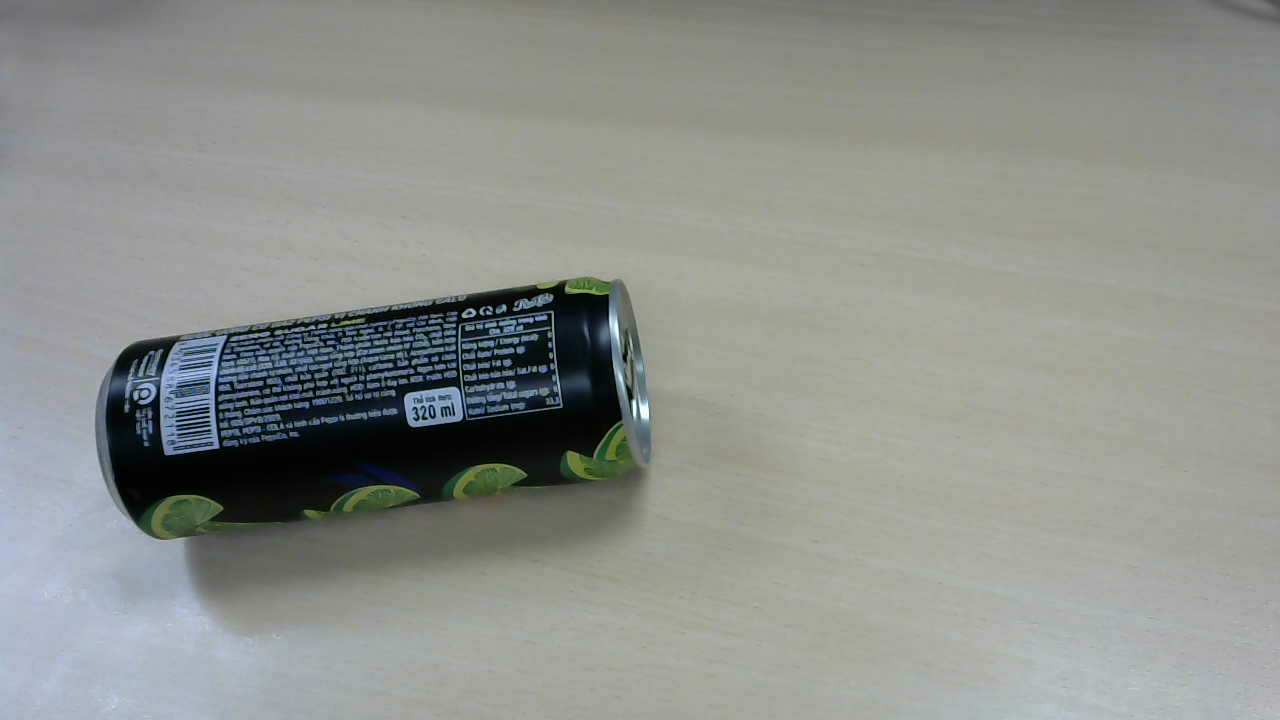Pepsi: (96, 281, 655, 546)
